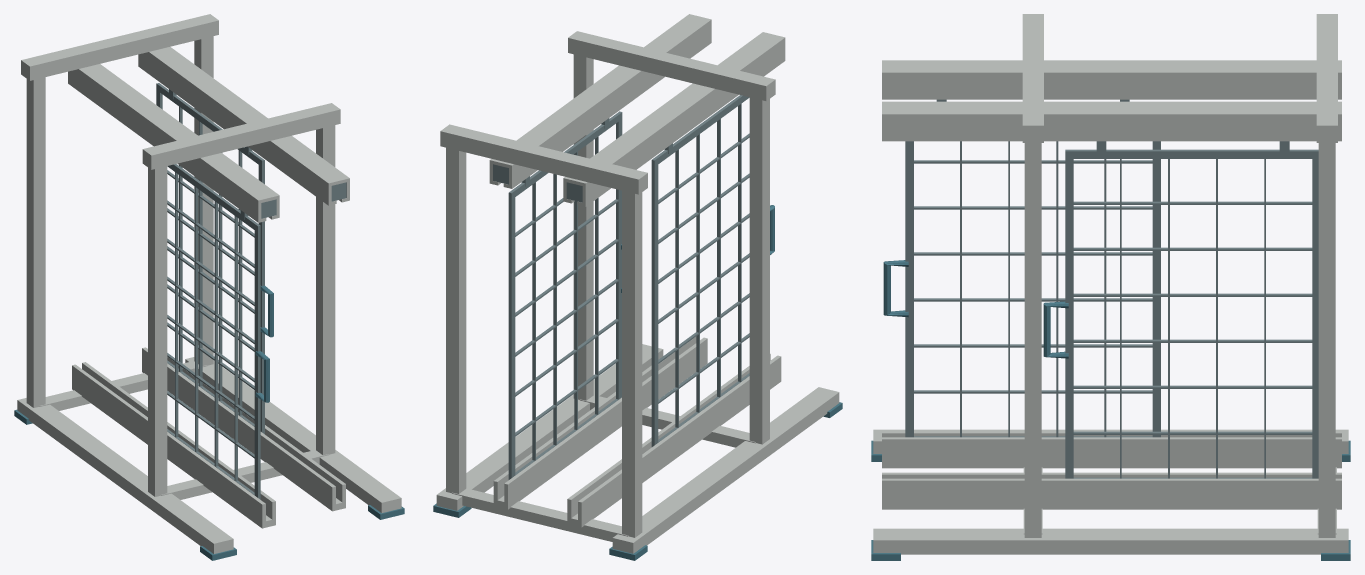
The picture shows the model from 3 angles, left to right: view 1: azimuth 30°, elevation 25°; view 2: azimuth 150°, elevation 25°; view 3: azimuth 270°, elevation 25°; orthographic projection. The views are drawn at different scales.
Visible parts, largest first — view 1: ExtendedWholeVerticalOpenPictureScreen, StoredWholeSlottedOverheadRail, ExtendedWholeSlottedOverheadRail, StoredWholeVerticalOpenPictureScreen, LEntryFullHeightPortalPost, LBackFullHeightPortalPost, ExtendedWholeFloorGuide, LWholeLongGroundSkid, REntryFullHeightPortalPost, StoredWholeFloorGuide, EntryWholeTopCrossbeam, BackWholeTopCrossbeam (+4 smaller); view 2: StoredWholeVerticalOpenPictureScreen, ExtendedWholeVerticalOpenPictureScreen, ExtendedWholeSlottedOverheadRail, StoredWholeSlottedOverheadRail, LEntryFullHeightPortalPost, LBackFullHeightPortalPost, RBackFullHeightPortalPost, LWholeLongGroundSkid, StoredWholeFloorGuide, ExtendedWholeFloorGuide, BackWholeTopCrossbeam, EntryWholeTopCrossbeam (+4 smaller); view 3: StoredWholeSlottedOverheadRail, ExtendedWholeSlottedOverheadRail, StoredWholeFloorGuide, StoredWholeVerticalOpenPictureScreen, ExtendedWholeFloorGuide, ExtendedWholeVerticalOpenPictureScreen, RWholeLongGroundSkid, REntryFullHeightPortalPost, RBackFullHeightPortalPost, EntryWholeTopCrossbeam, BackWholeTopCrossbeam, LWholeLongGroundSkid (+2 smaller).
Part boxes in pixels (x1=…): ExtendedWholeVerticalOpenPictureScreen: x1=167, y1=164, x2=260, y2=499; StoredWholeSlottedOverheadRail: x1=138, y1=47, x2=349, y2=205; ExtendedWholeSlottedOverheadRail: x1=68, y1=64, x2=279, y2=222; StoredWholeVerticalOpenPictureScreen: x1=156, y1=83, x2=264, y2=434; LEntryFullHeightPortalPost: x1=148, y1=166, x2=167, y2=496; LBackFullHeightPortalPost: x1=26, y1=77, x2=45, y2=407; ExtendedWholeFloorGuide: x1=72, y1=362, x2=275, y2=528; LWholeLongGroundSkid: x1=17, y1=398, x2=233, y2=553; REntryFullHeightPortalPost: x1=316, y1=125, x2=335, y2=455; StoredWholeFloorGuide: x1=142, y1=347, x2=345, y2=511; EntryWholeTopCrossbeam: x1=142, y1=103, x2=340, y2=169; BackWholeTopCrossbeam: x1=21, y1=14, x2=218, y2=80; StoredWholeVerticalOpenPictureScreen: x1=508, y1=111, x2=622, y2=479; ExtendedWholeVerticalOpenPictureScreen: x1=651, y1=95, x2=749, y2=446; ExtendedWholeSlottedOverheadRail: x1=563, y1=32, x2=785, y2=206; StoredWholeSlottedOverheadRail: x1=489, y1=14, x2=711, y2=188; LEntryFullHeightPortalPost: x1=749, y1=97, x2=769, y2=444; LBackFullHeightPortalPost: x1=622, y1=190, x2=642, y2=537; RBackFullHeightPortalPost: x1=446, y1=147, x2=466, y2=493; LWholeLongGroundSkid: x1=612, y1=387, x2=839, y2=553; StoredWholeFloorGuide: x1=493, y1=336, x2=707, y2=509; ExtendedWholeFloorGuide: x1=567, y1=353, x2=781, y2=527; BackWholeTopCrossbeam: x1=440, y1=124, x2=647, y2=194; EntryWholeTopCrossbeam: x1=568, y1=31, x2=775, y2=101; StoredWholeSlottedOverheadRail: x1=882, y1=101, x2=1341, y2=141; ExtendedWholeSlottedOverheadRail: x1=882, y1=60, x2=1341, y2=99; StoredWholeFloorGuide: x1=882, y1=472, x2=1341, y2=509; StoredWholeVerticalOpenPictureScreen: x1=1065, y1=149, x2=1318, y2=478; ExtendedWholeFloorGuide: x1=882, y1=431, x2=1341, y2=468; ExtendedWholeVerticalOpenPictureScreen: x1=905, y1=141, x2=1160, y2=437; RWholeLongGroundSkid: x1=873, y1=528, x2=1348, y2=554; REntryFullHeightPortalPost: x1=1024, y1=143, x2=1041, y2=537; RBackFullHeightPortalPost: x1=1318, y1=143, x2=1335, y2=537; EntryWholeTopCrossbeam: x1=1022, y1=14, x2=1043, y2=142; BackWholeTopCrossbeam: x1=1316, y1=14, x2=1337, y2=142; LWholeLongGroundSkid: x1=873, y1=429, x2=1348, y2=453.
Size of the model in its own units: 1.26 by 2.25 by 2.25.
